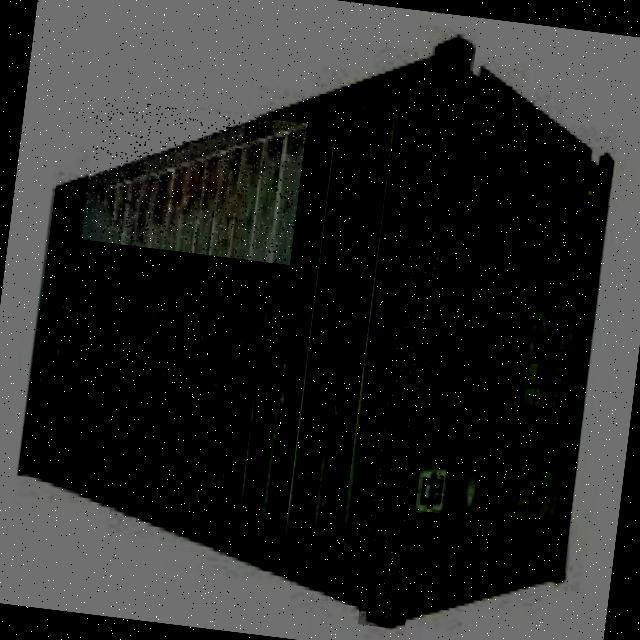Rust: (80, 97, 307, 265), (358, 239, 440, 628)
